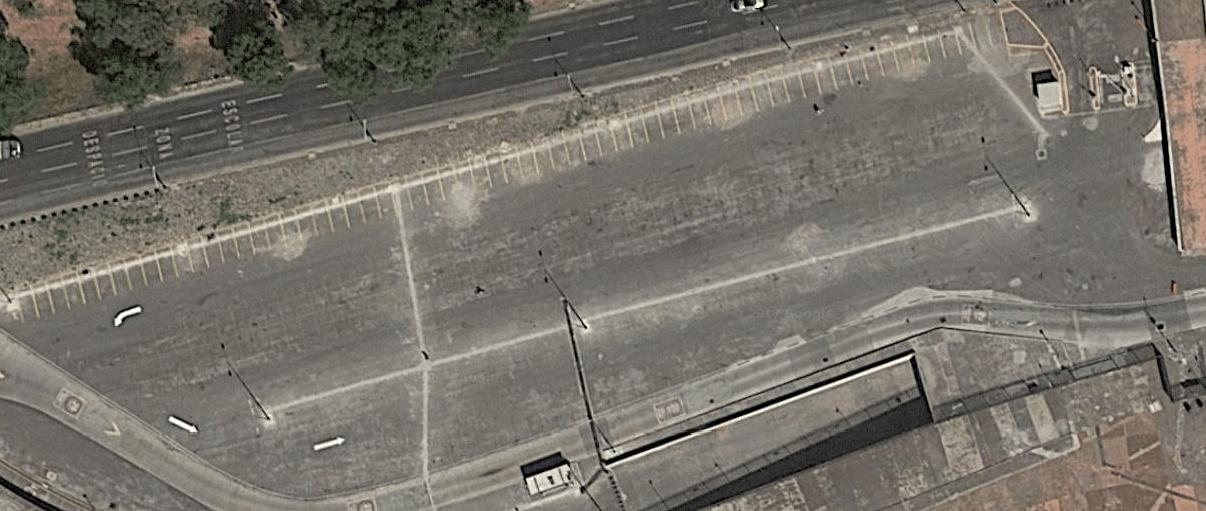parkingspot: (14, 18, 994, 325), (119, 89, 1002, 401), (262, 178, 1043, 443)
